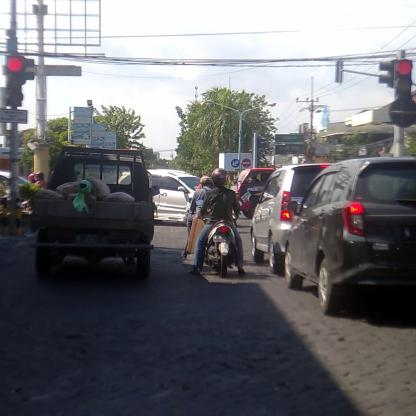red: (392, 58, 414, 112), (6, 56, 26, 109)
